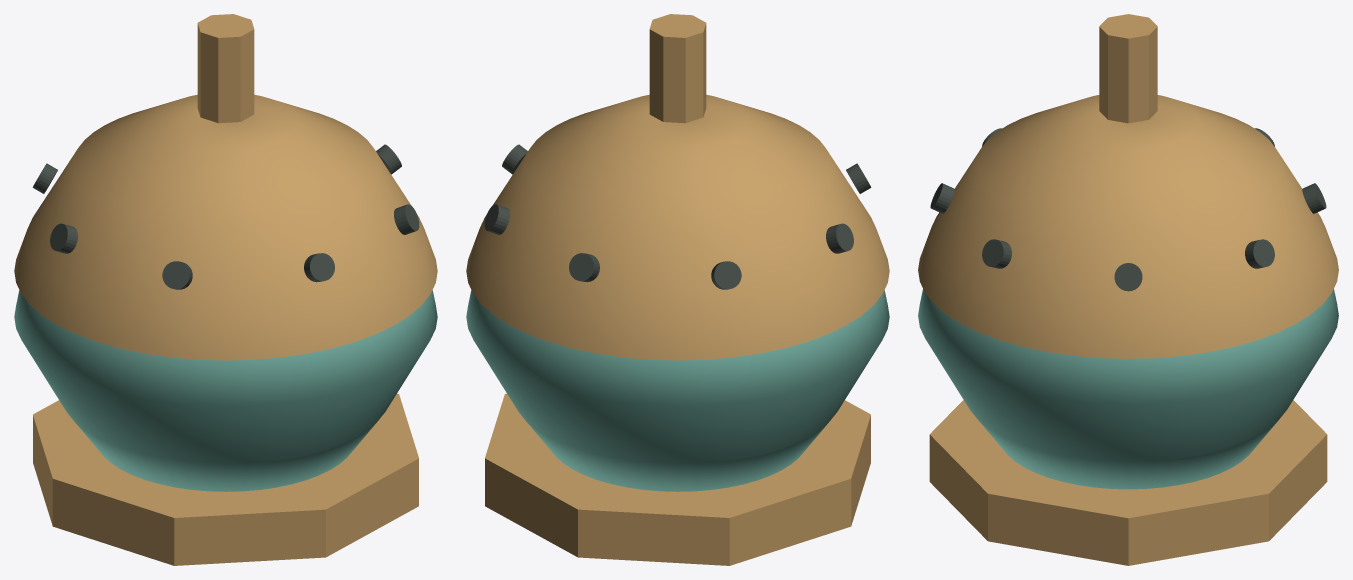
Rendered from fantasy-bathhouse-and-thermal-sanctuary-fantasy-bathho-f0ec543e__29471.glb.
3 renders of one model, left to right at view 1: azimuth 30°, elevation 25°; view 2: azimuth 150°, elevation 25°; view 3: azimuth 270°, elevation 25°, orthographic.
Parts seen in each view (by area): view 1: fantasy-bathhouse-and-thermal-sanctuary-incense-censer; view 2: fantasy-bathhouse-and-thermal-sanctuary-incense-censer; view 3: fantasy-bathhouse-and-thermal-sanctuary-incense-censer.
Boxes of the visible parts, x1=… form: fantasy-bathhouse-and-thermal-sanctuary-incense-censer: x1=14, y1=14, x2=437, y2=565; fantasy-bathhouse-and-thermal-sanctuary-incense-censer: x1=466, y1=14, x2=889, y2=565; fantasy-bathhouse-and-thermal-sanctuary-incense-censer: x1=918, y1=14, x2=1338, y2=565.
Bounding box in the file's own units: 0.36 × 0.43 × 0.36.
